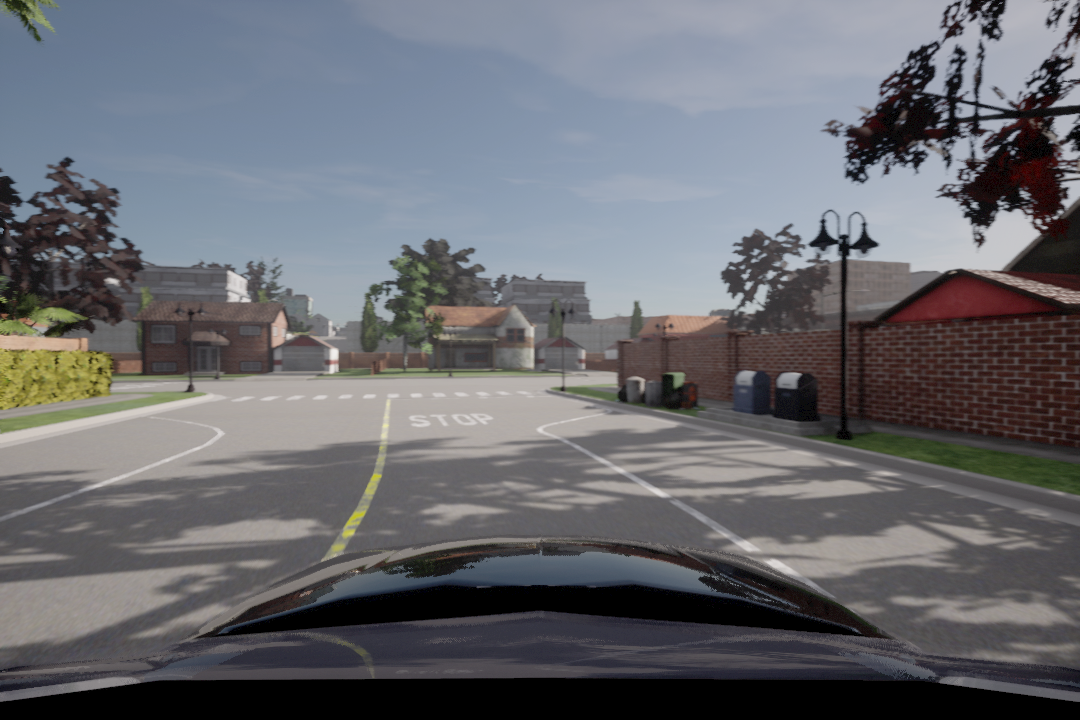walkside: (222, 387, 558, 402)
